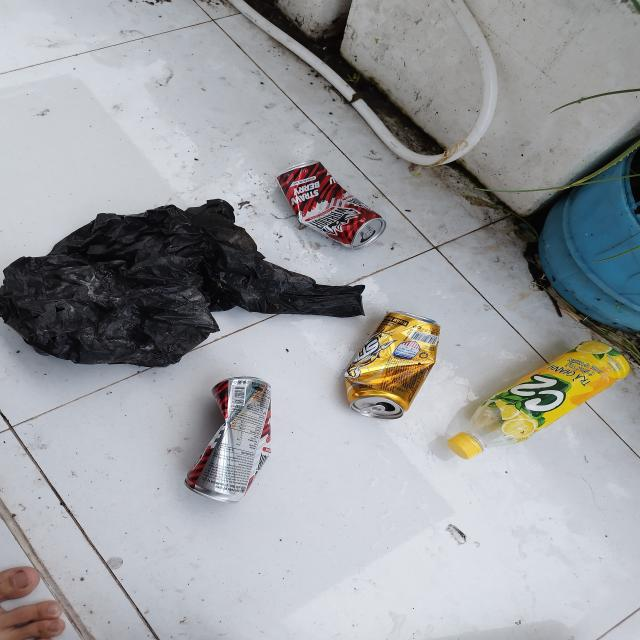bag: (0, 199, 365, 368)
bottle: (447, 340, 630, 461)
can: (181, 374, 273, 505), (346, 310, 440, 420), (276, 160, 386, 249)
